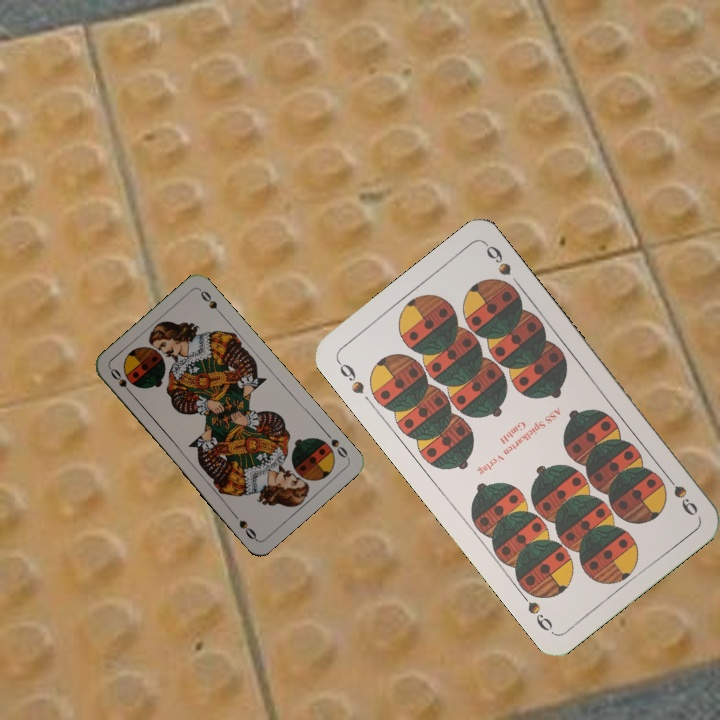S9: (659, 468, 701, 519), (333, 356, 367, 397)
SO: (106, 364, 137, 399), (321, 428, 352, 461)
